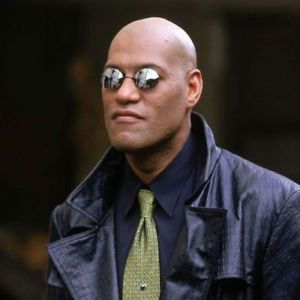sunglasses: (84, 63, 186, 93)
